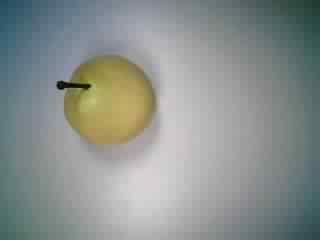pear: (46, 44, 162, 147)
